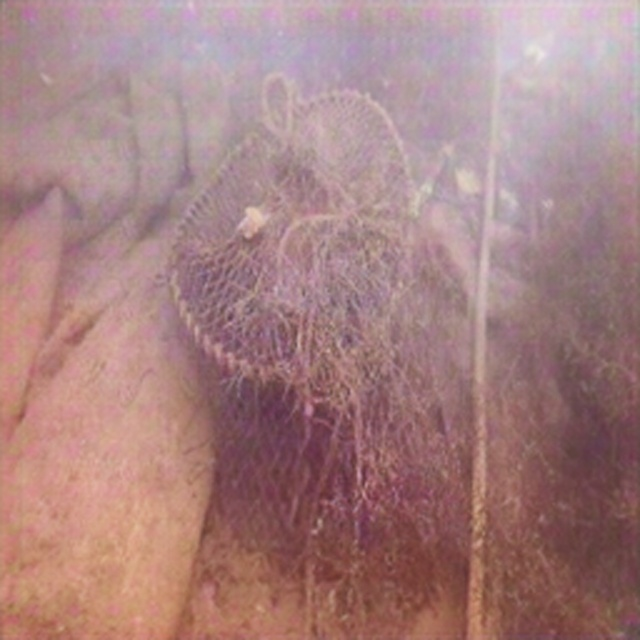mine: (165, 88, 417, 567)
